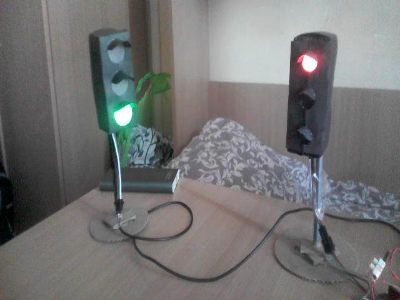trafficlight_green: (101, 33, 138, 129)
trafficlight_red: (287, 37, 329, 150)
